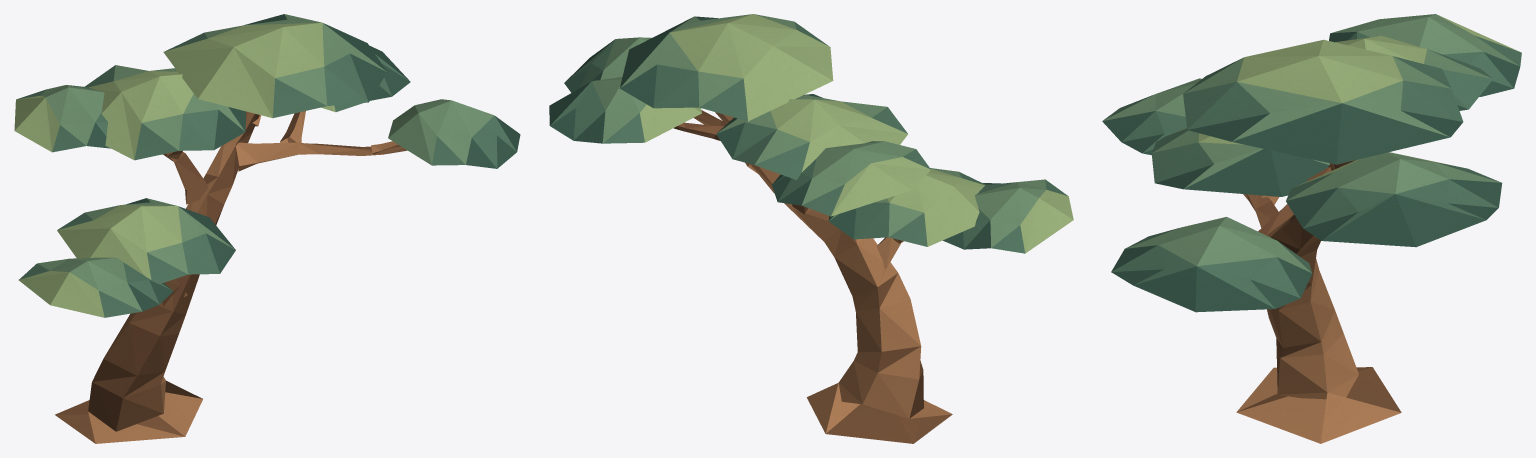
File: 02_pine_tree_A.obj
3 renders of one model, left to right at view 1: azimuth 30°, elevation 25°; view 2: azimuth 150°, elevation 25°; view 3: azimuth 270°, elevation 25°, orthographic. The views are drawn at different scales.
Parts seen in each view (by area): view 1: Pine_A_Canopy, Pine_A_Trunk; view 2: Pine_A_Canopy, Pine_A_Trunk; view 3: Pine_A_Canopy, Pine_A_Trunk.
Boxes of the visible parts, x1,y1,x2,y2 form: Pine_A_Canopy: [14, 14, 520, 317]; Pine_A_Trunk: [55, 111, 407, 443]; Pine_A_Canopy: [549, 14, 1073, 253]; Pine_A_Trunk: [673, 110, 952, 443]; Pine_A_Canopy: [1102, 14, 1521, 312]; Pine_A_Trunk: [1236, 160, 1401, 443].
Size of the model in its own units: 3.13 by 2.22 by 1.94.
Materials: 1 (1 with a texture image).
